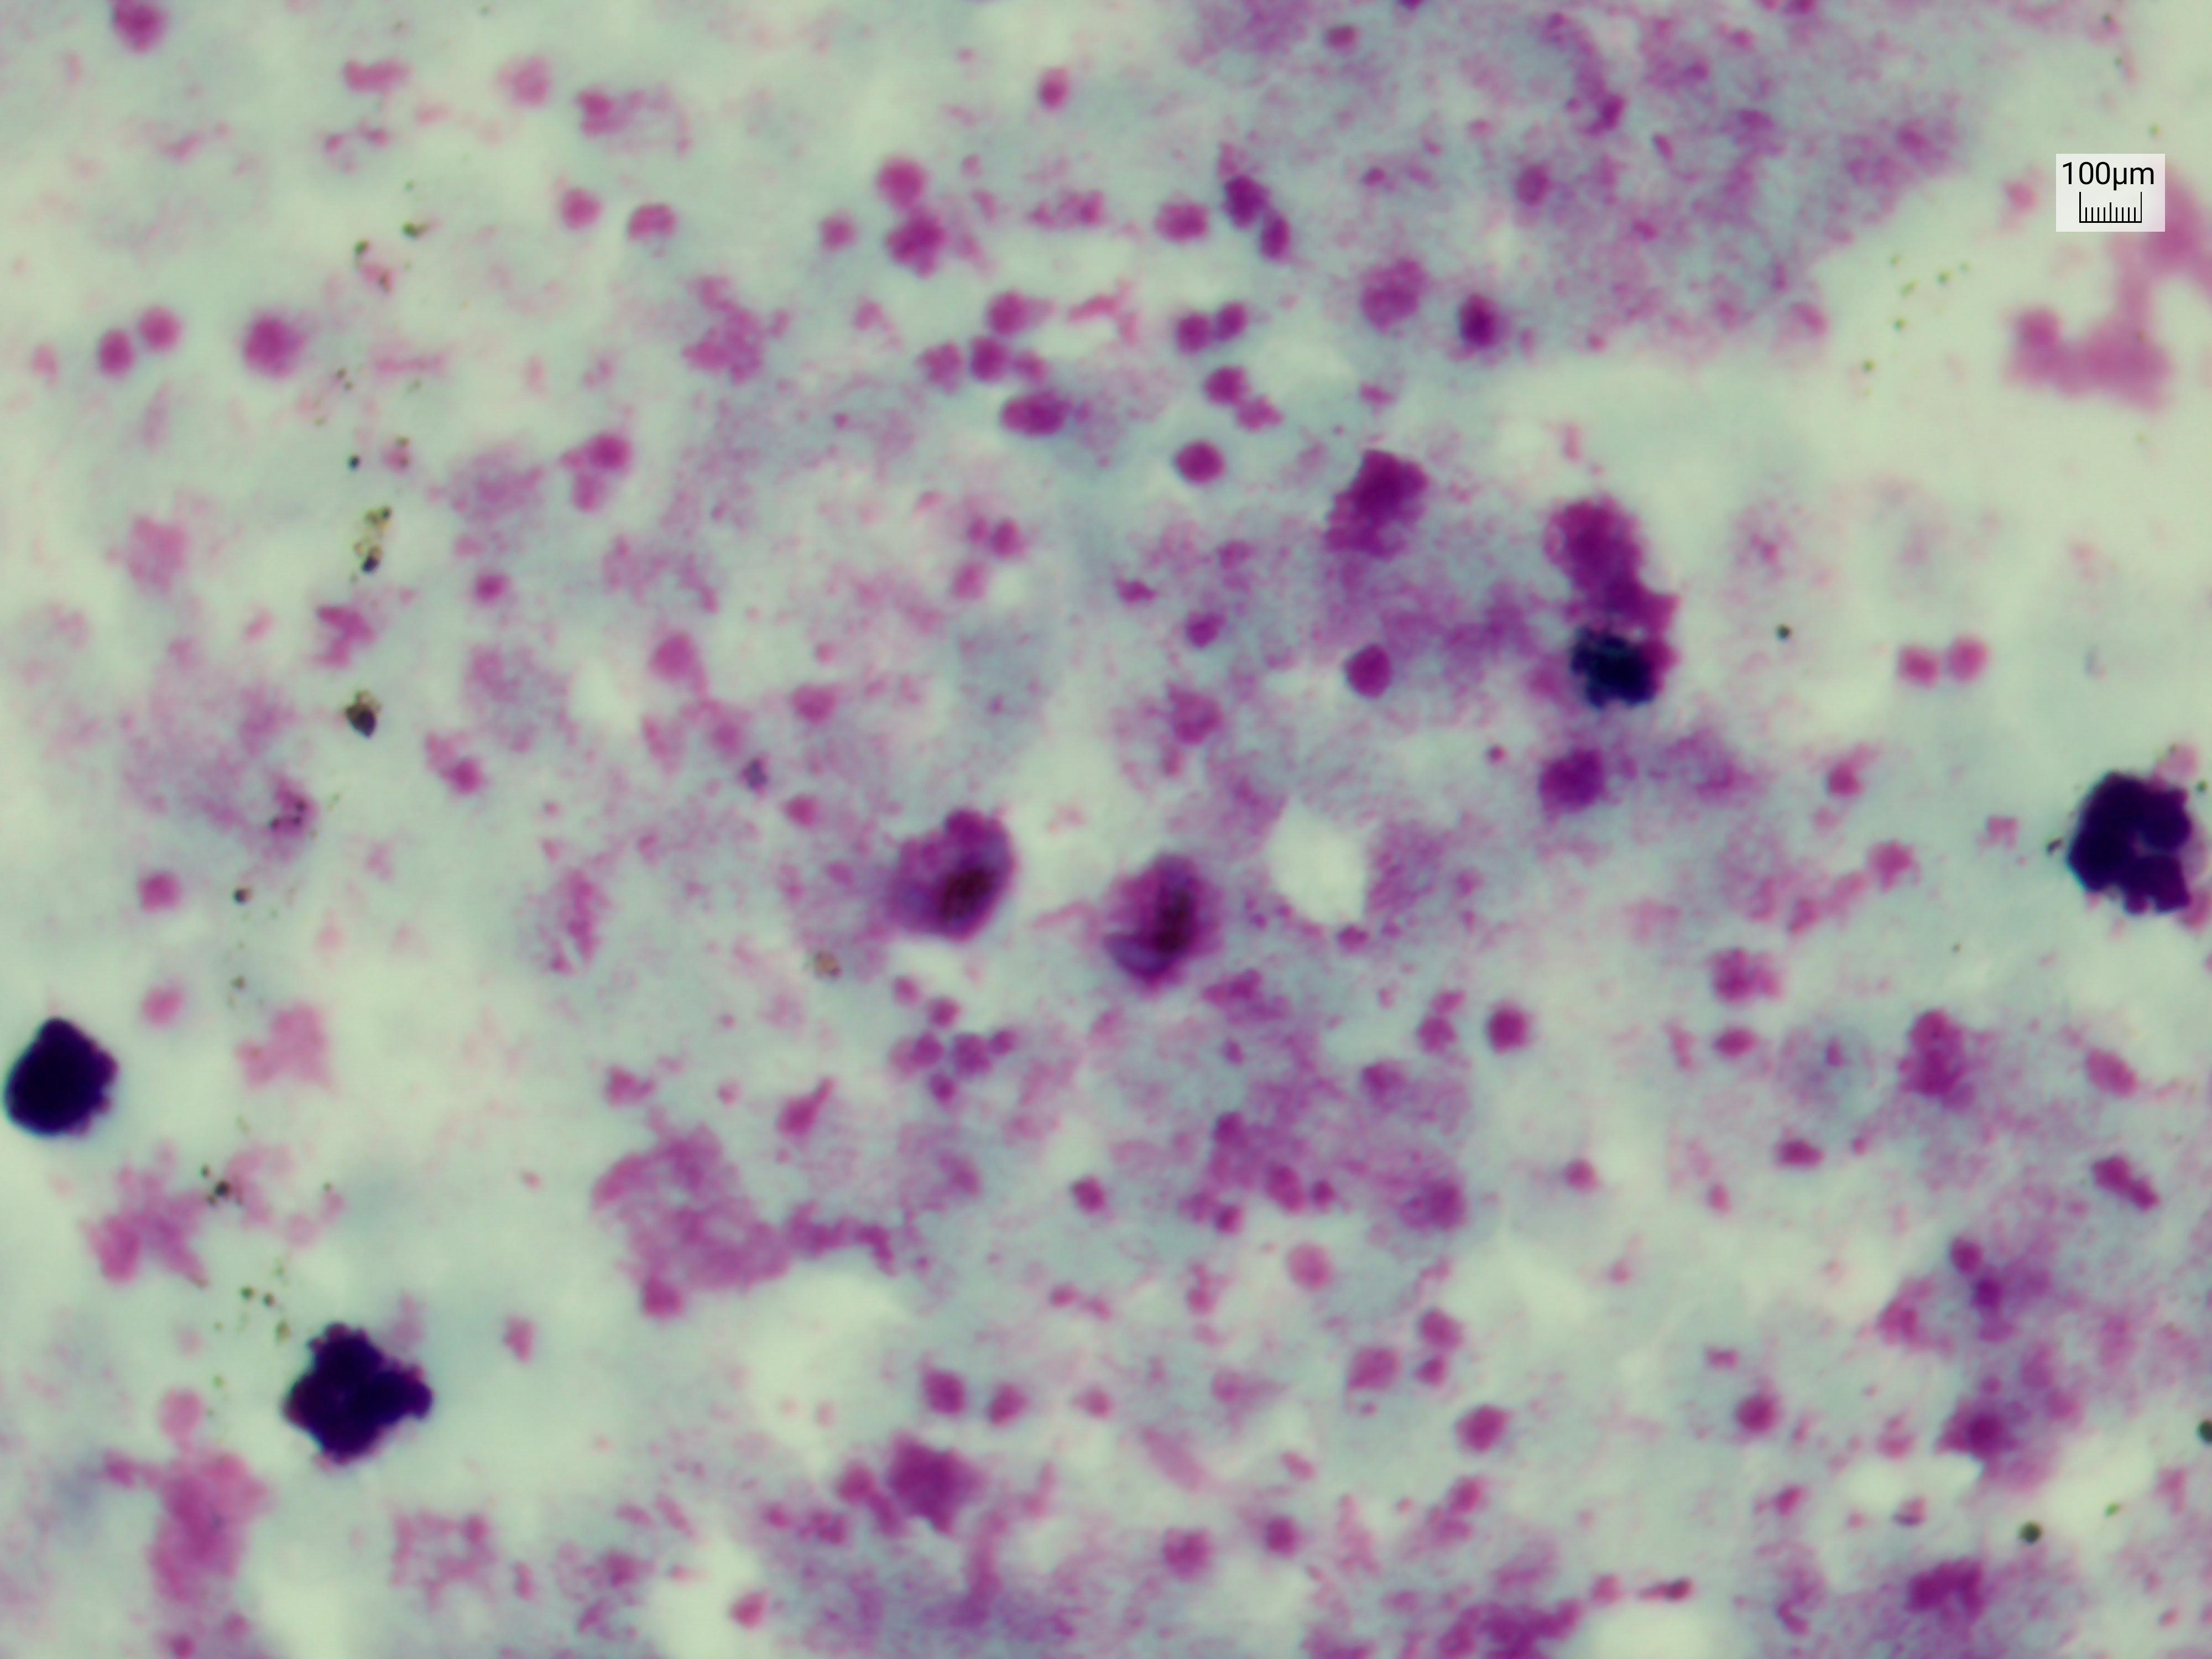p.falciparum: (874, 791, 1022, 976), (1096, 824, 1228, 993)
